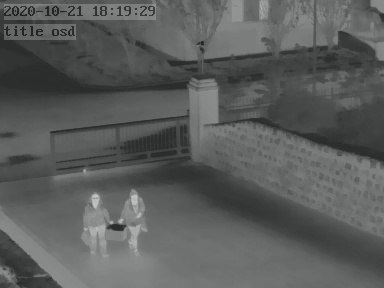person: (81, 189, 112, 255), (119, 185, 146, 255)
